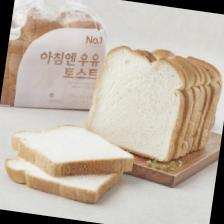bread: (82, 40, 224, 169), (7, 116, 137, 188)
